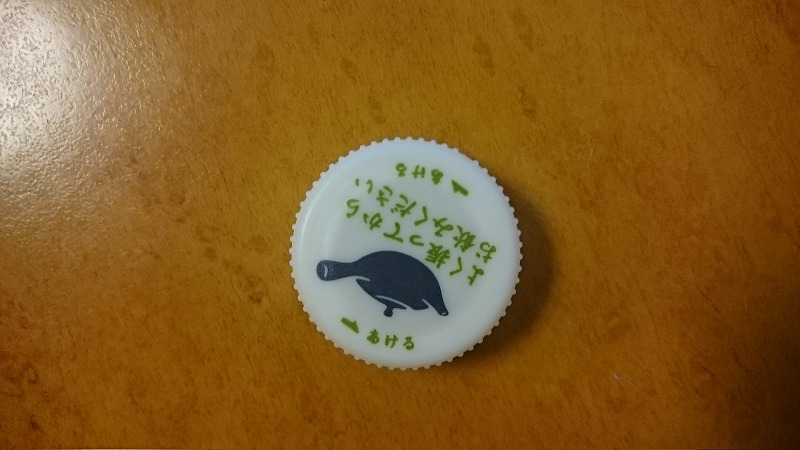A: (279, 127, 540, 372)
